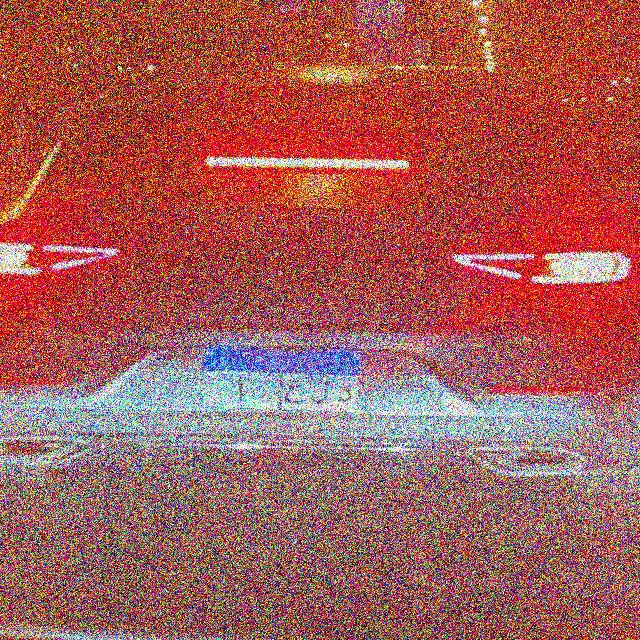License Plate: (197, 343, 367, 418)
